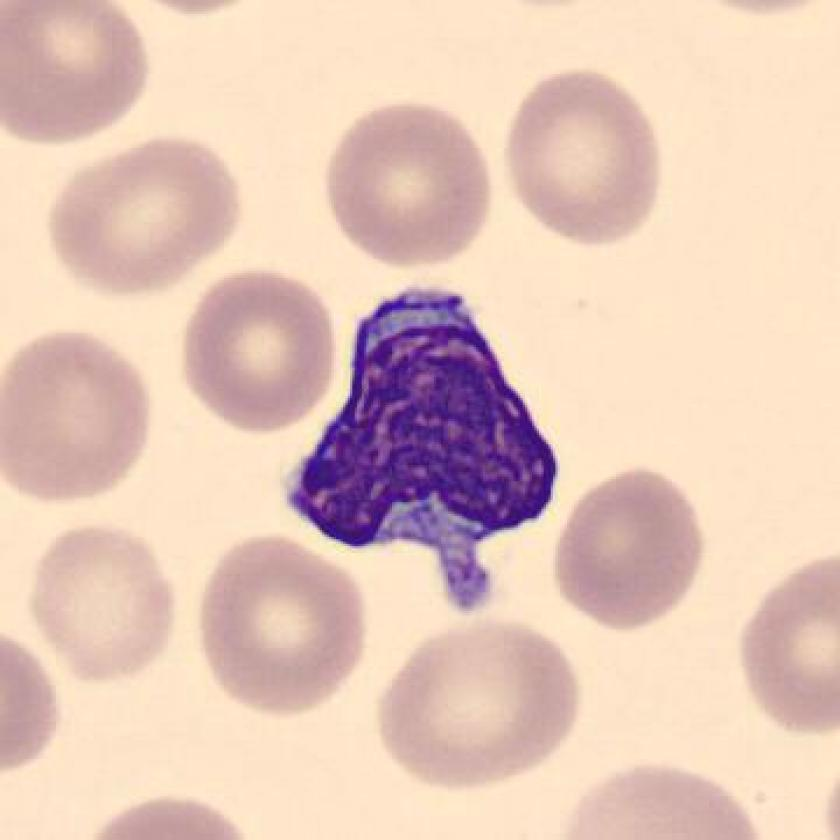lymphocyte: (274, 260, 589, 624)
